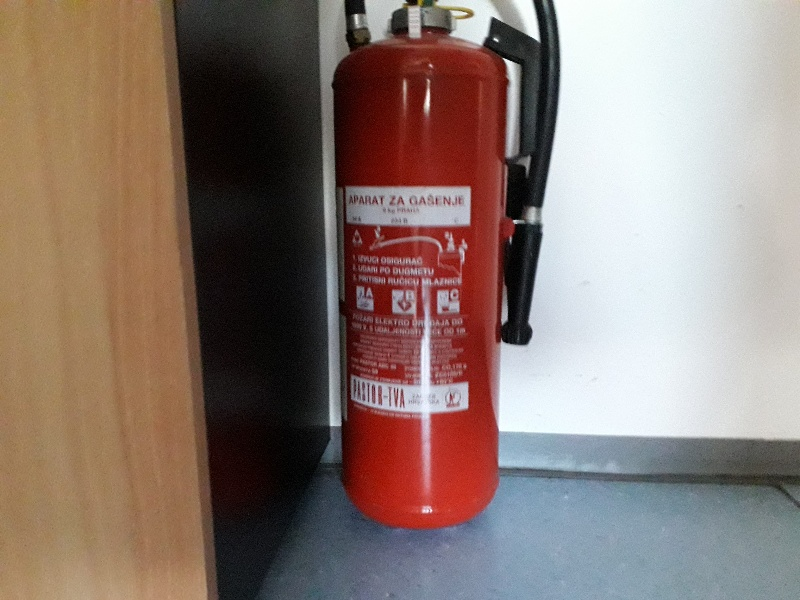vataparat: (331, 1, 560, 529)
